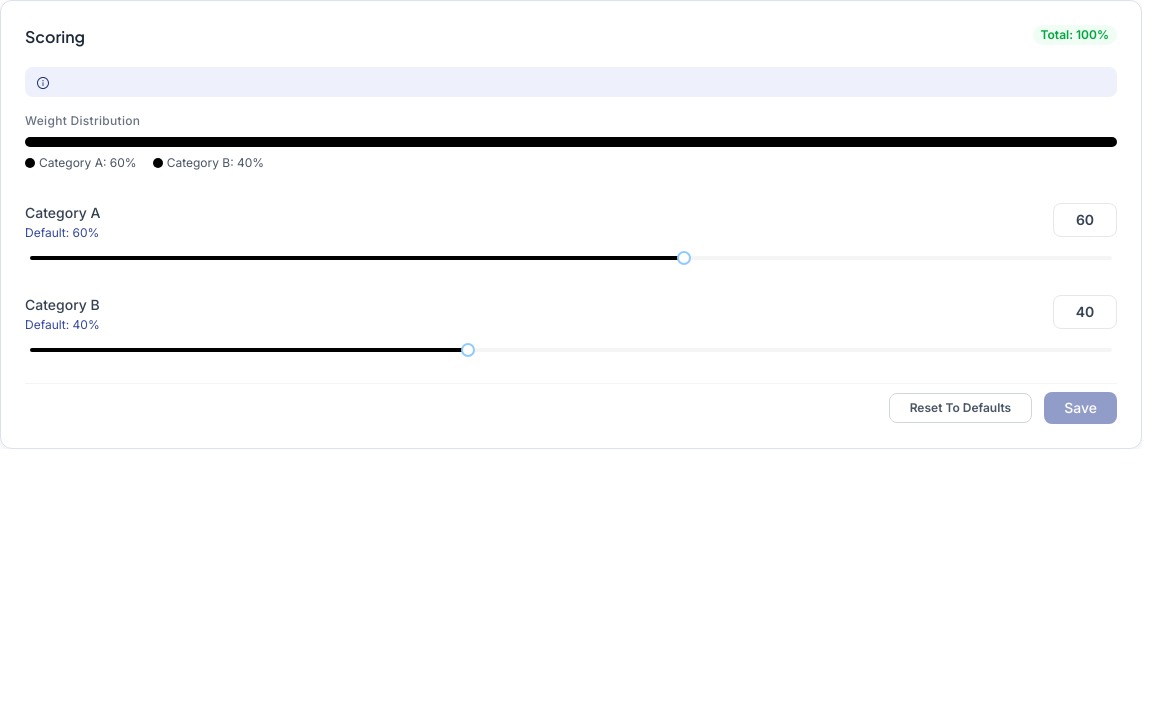
it: ScoringWeightCard — weight sum can never exceed 100 › lets a field grow only by the amount freed up elsewhere
Replace the text in the 2nd number field with "20" at point(1085, 312), box [1053,295,1117,329]
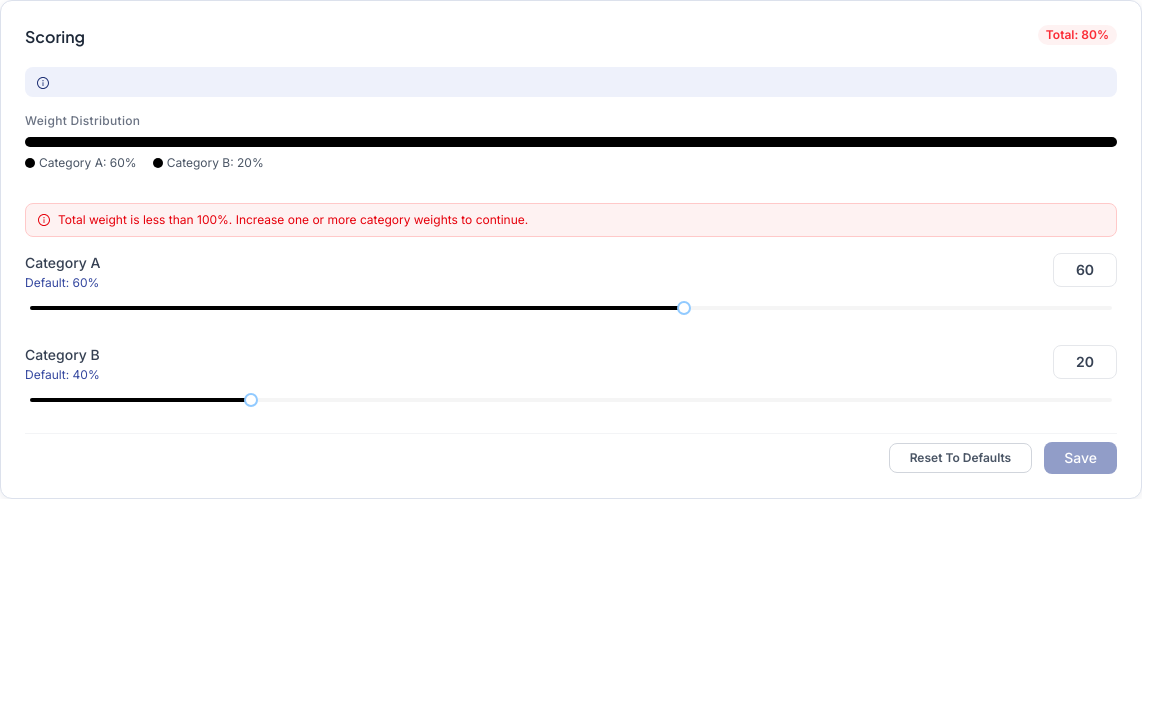
Replace the text in the 1st number field with "90" at point(1085, 270), box [1053,253,1117,287]
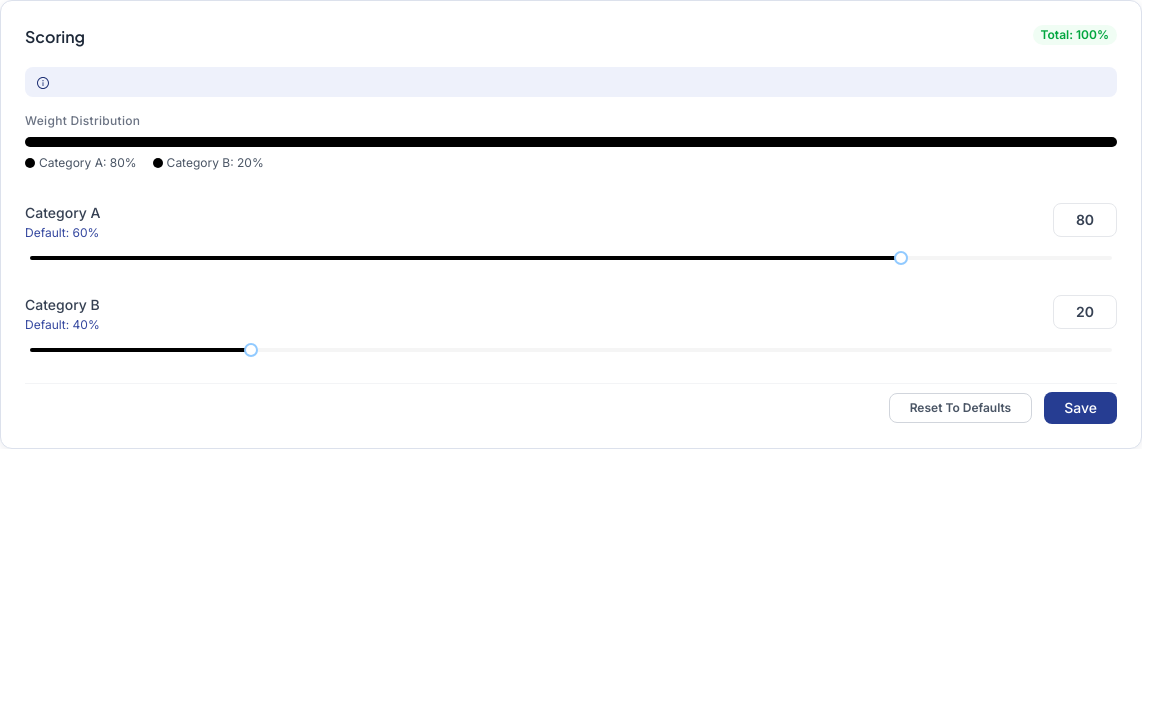
Now the number field in the row of "60" holds "80", box [1053,203,1117,237]
